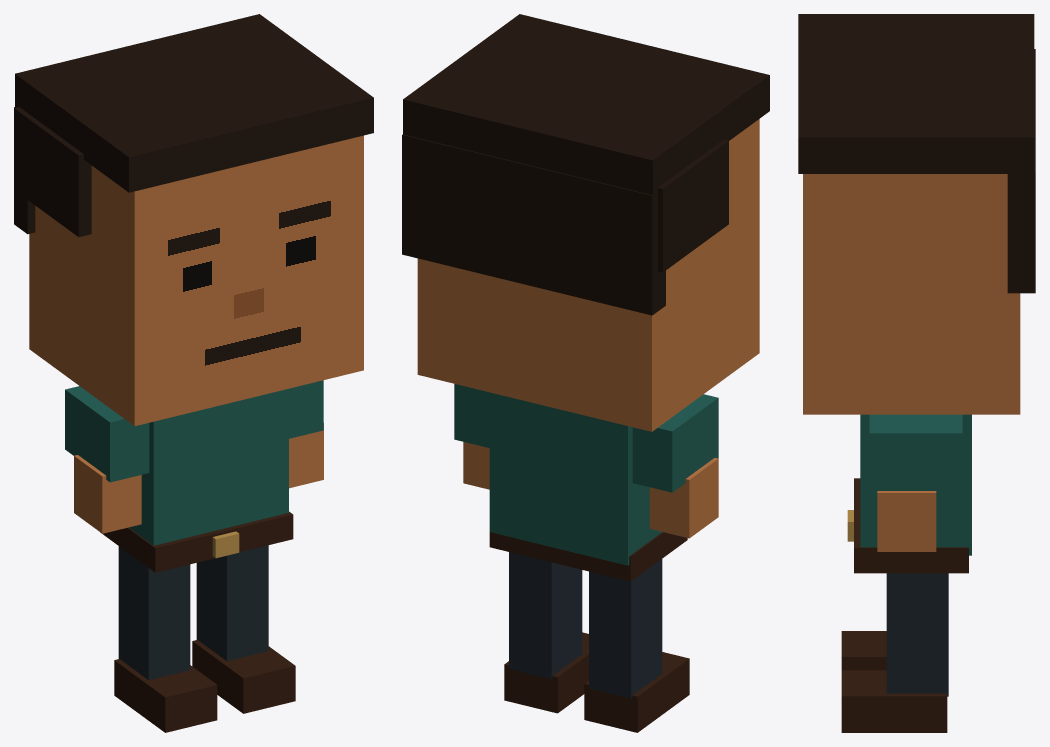
3 views of the same model, side by side, from view 1: azimuth 30°, elevation 25°; view 2: azimuth 150°, elevation 25°; view 3: azimuth 270°, elevation 25° (orthographic). The views are drawn at different scales.
Parts seen in each view (by area): view 1: avatar-quadrado-01; view 2: avatar-quadrado-01; view 3: avatar-quadrado-01.
Boxes of the visible parts, left/top/right/bottom form: avatar-quadrado-01: left=14, top=14, right=373, bottom=732; avatar-quadrado-01: left=402, top=14, right=769, bottom=732; avatar-quadrado-01: left=798, top=14, right=1035, bottom=732.
Bounding box in the file's own units: 0.96 × 2.22 × 0.765.
Materials: 1 (1 with a texture image).
